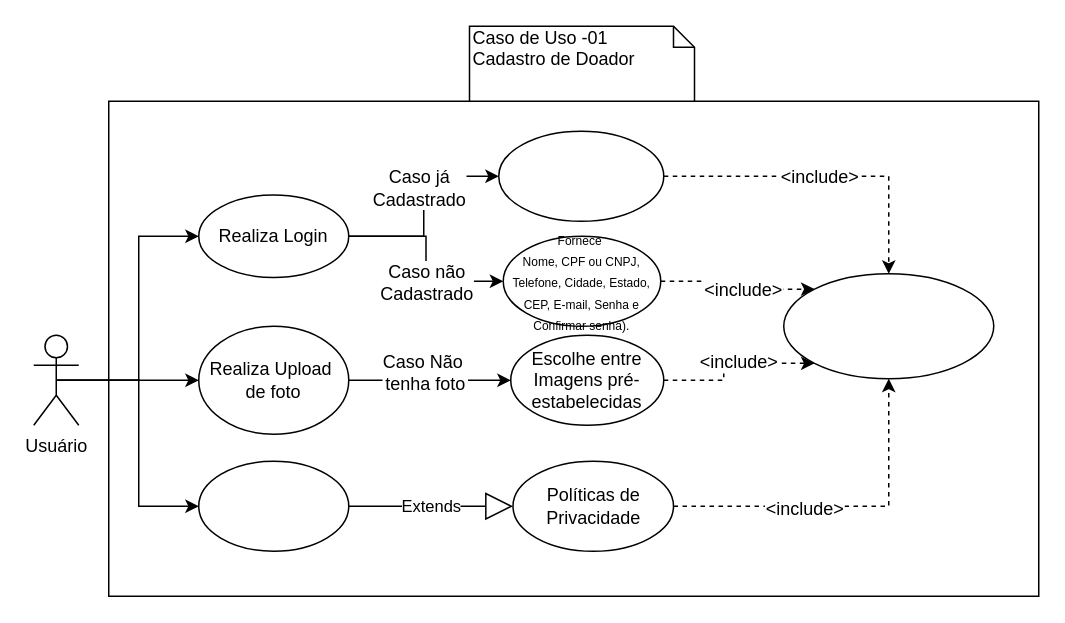
Some shapes in this 1065 by 623 pixel diagram are drawn without their labels. Here are the shapes that lost their labels. From the top down, the centre of each, then its label:
point (580, 175): Fornece Email e Senha
point (888, 325): Banco de Dados
point (273, 505): Insere Motivo de ser doador
